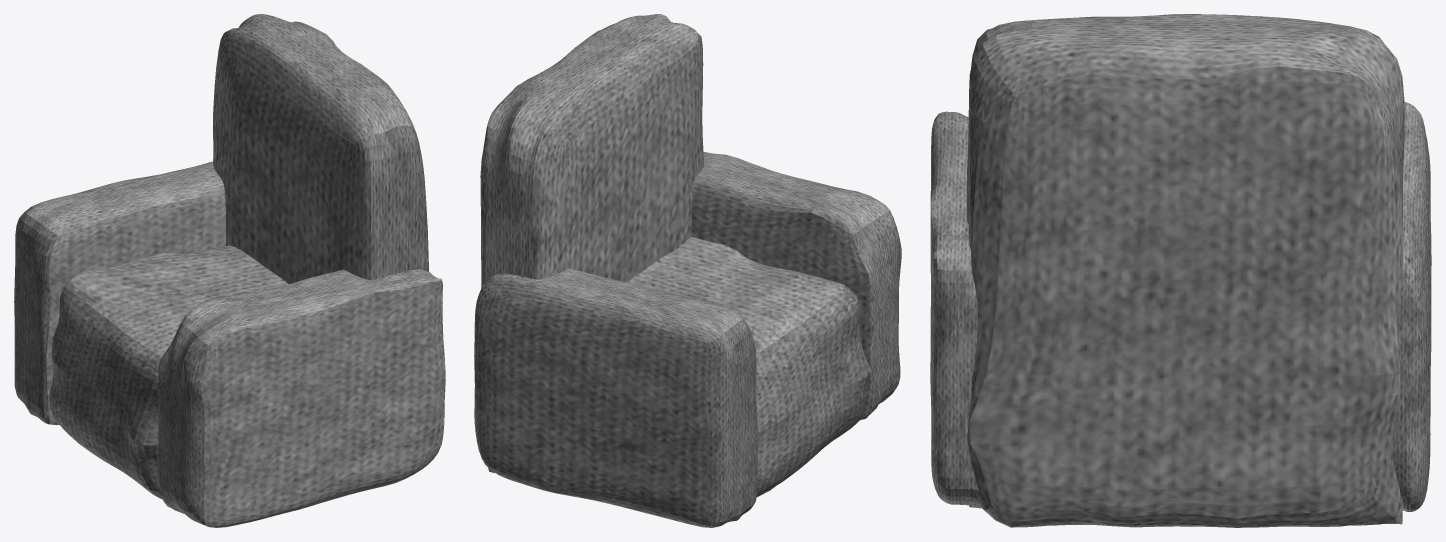
File: Sofa Chair.fbx
The picture shows the model from 3 angles, left to right: view 1: azimuth 30°, elevation 25°; view 2: azimuth 150°, elevation 25°; view 3: azimuth 270°, elevation 25°; orthographic projection. The views are drawn at different scales.
Parts seen in each view (by area): view 1: Cube; view 2: Cube; view 3: Cube.
Boxes of the visible parts, x1,y1,x2,y2 form: Cube: [14, 14, 445, 527]; Cube: [474, 14, 901, 527]; Cube: [930, 14, 1431, 527].
Size of the model in its own units: 484 by 615 by 571.
